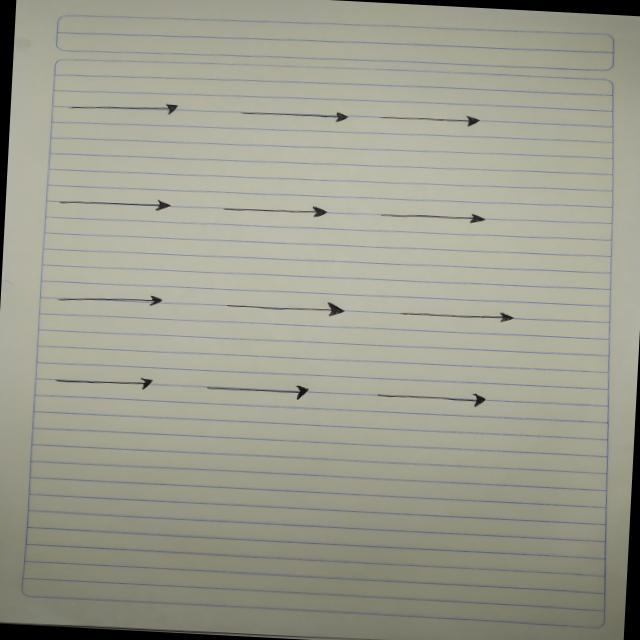arrow_line_right: (214, 293, 361, 328), (50, 282, 174, 318), (352, 384, 511, 412), (59, 92, 190, 124), (206, 195, 332, 228), (220, 101, 354, 132), (384, 304, 528, 332), (190, 376, 318, 406), (363, 108, 497, 136), (55, 190, 177, 220), (370, 204, 490, 232), (49, 371, 162, 397)
